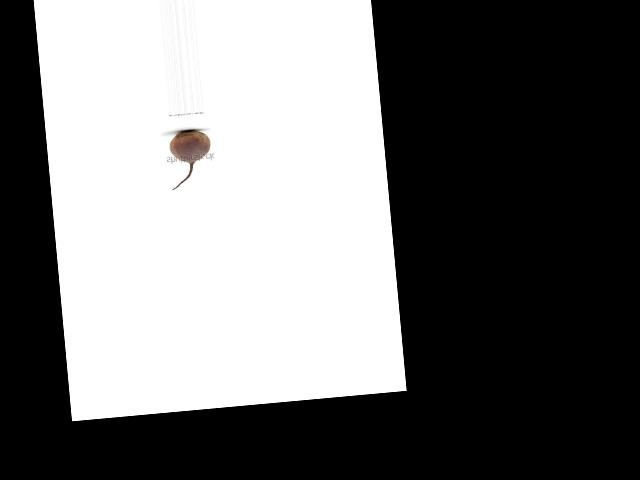beet: (167, 128, 215, 190)
